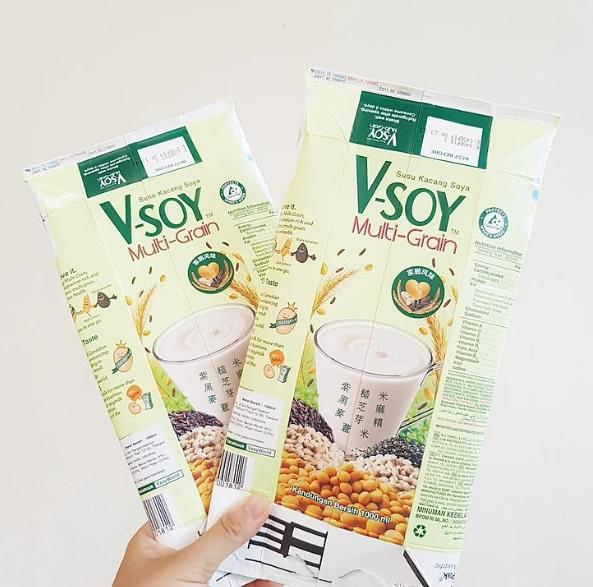cardboard: (29, 98, 276, 541)
